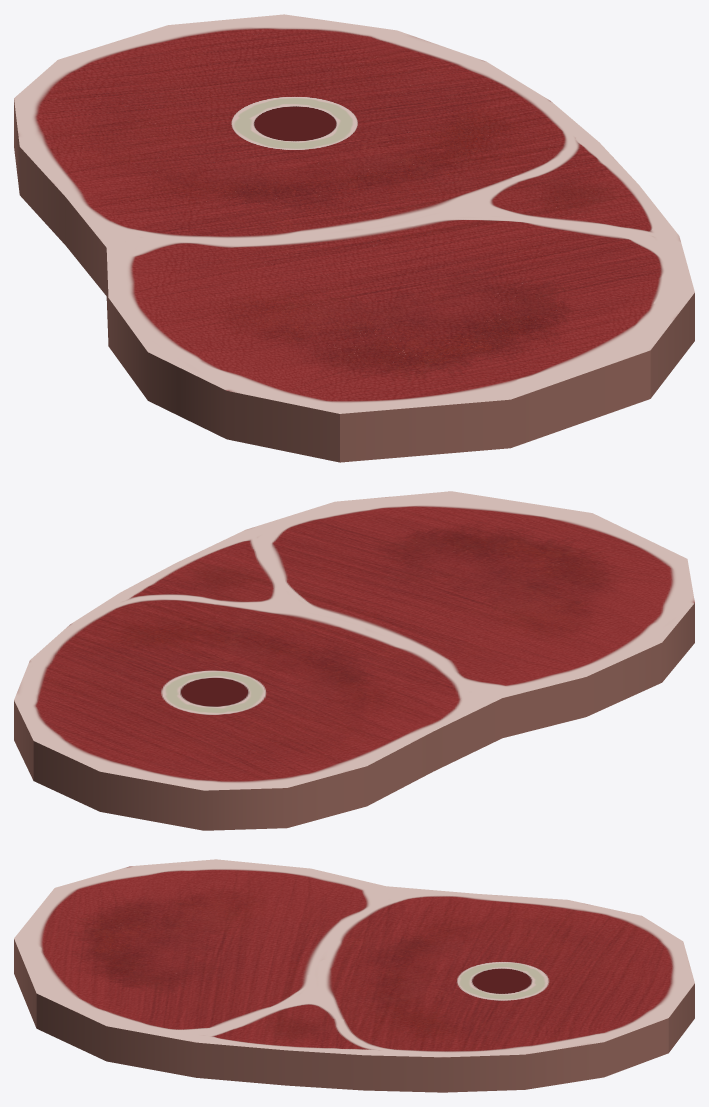
The model's file is meat.glb.
3 views of the same model, one above another, from view 1: azimuth 30°, elevation 25°; view 2: azimuth 150°, elevation 25°; view 3: azimuth 270°, elevation 25° (orthographic). The views are drawn at different scales.
Visible parts, largest first — view 1: steak_low; view 2: steak_low; view 3: steak_low.
Boxes of the visible parts, left/top/right/bottom form: steak_low: left=14, top=14, right=694, bottom=462; steak_low: left=14, top=491, right=694, bottom=830; steak_low: left=14, top=859, right=694, bottom=1092.
Bounding box in the file's own units: 2.41 × 0.2 × 3.5.
2 materials, 2 textured.
